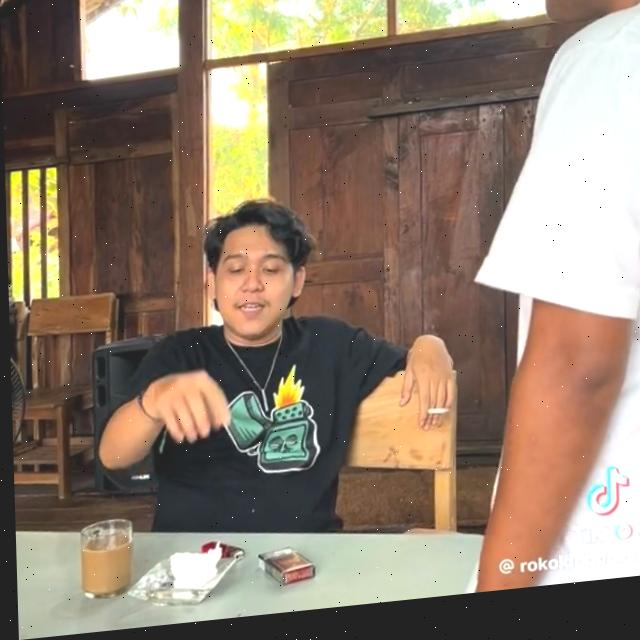cigarette: (424, 417, 447, 424)
